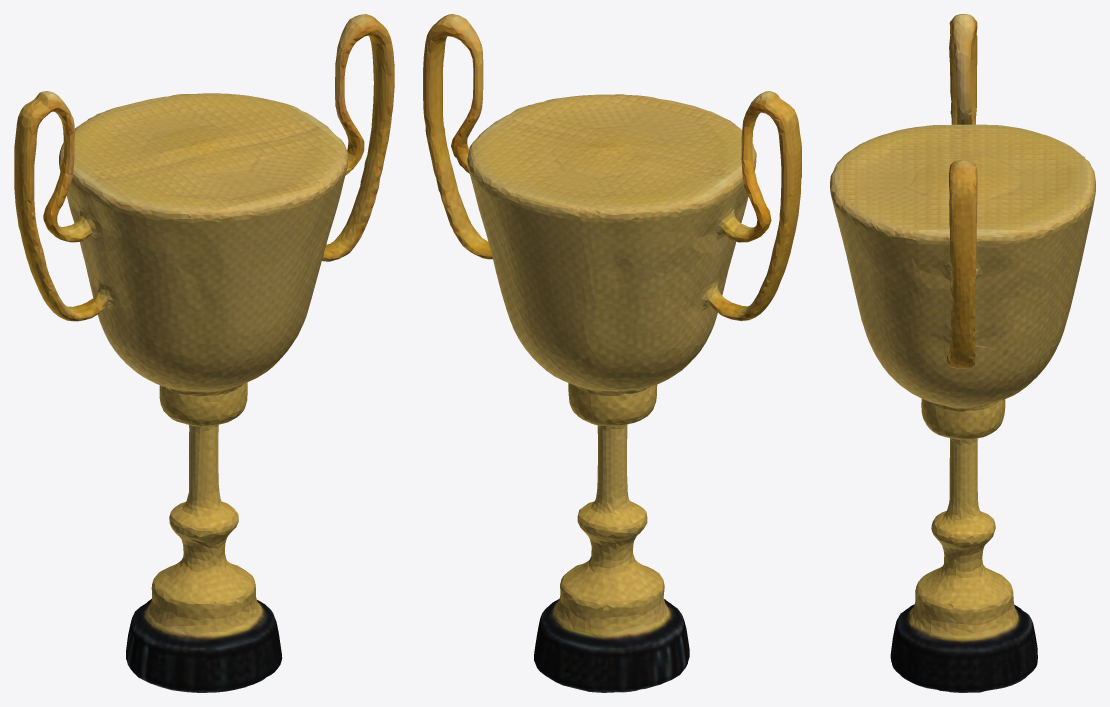
The picture shows the model from 3 angles, left to right: view 1: azimuth 30°, elevation 25°; view 2: azimuth 150°, elevation 25°; view 3: azimuth 270°, elevation 25°; orthographic projection. The views are drawn at different scales.
Parts seen in each view (by area): view 1: Mesh_0; view 2: Mesh_0; view 3: Mesh_0.
Boxes of the visible parts, x1,y1,x2,y2 form: Mesh_0: (14, 14, 394, 692); Mesh_0: (423, 14, 801, 692); Mesh_0: (830, 14, 1095, 692).
Bounding box in the file's own units: 4.54 × 7.08 × 2.96.
1 material, 1 textured.
